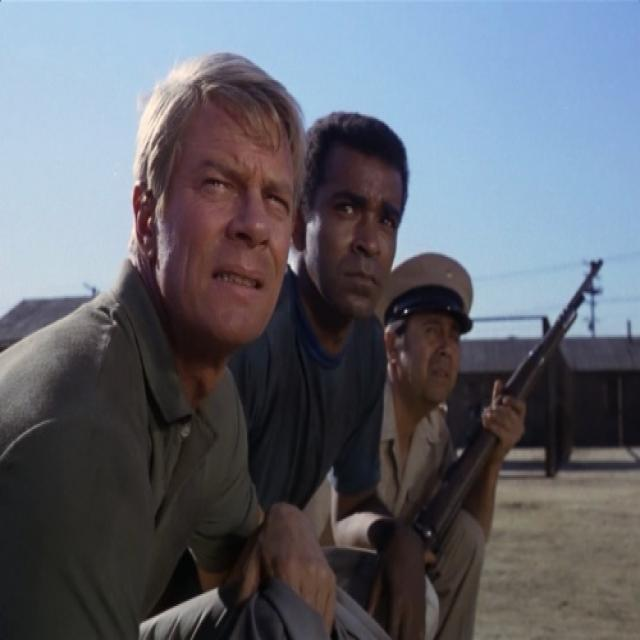rifle: (418, 242, 611, 568)
